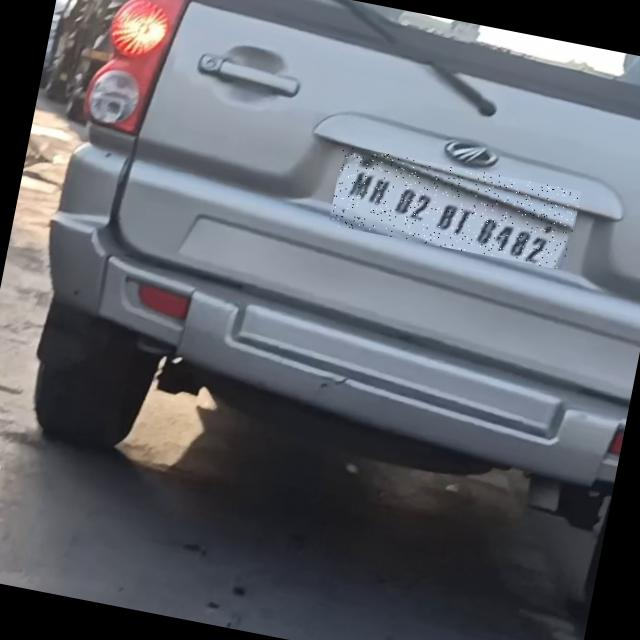Plate: (330, 146, 583, 272)
